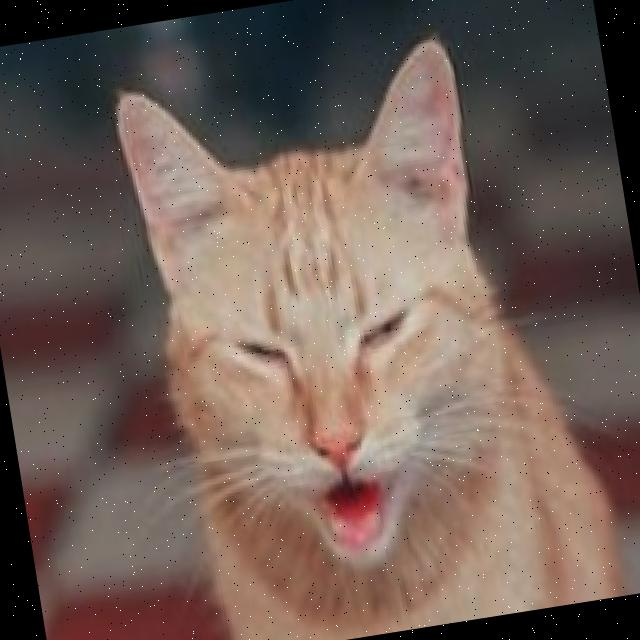Angry: (161, 227, 528, 599)
